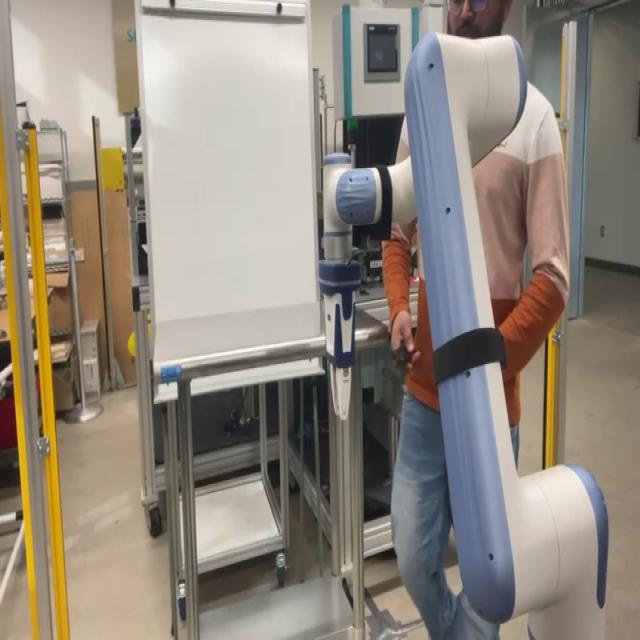human: (381, 0, 570, 637)
robot: (317, 29, 612, 640)
